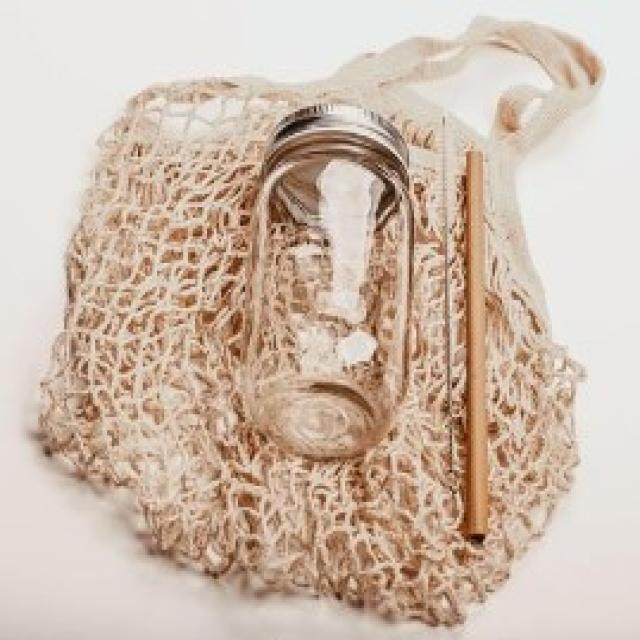electronic: (249, 105, 413, 464)
